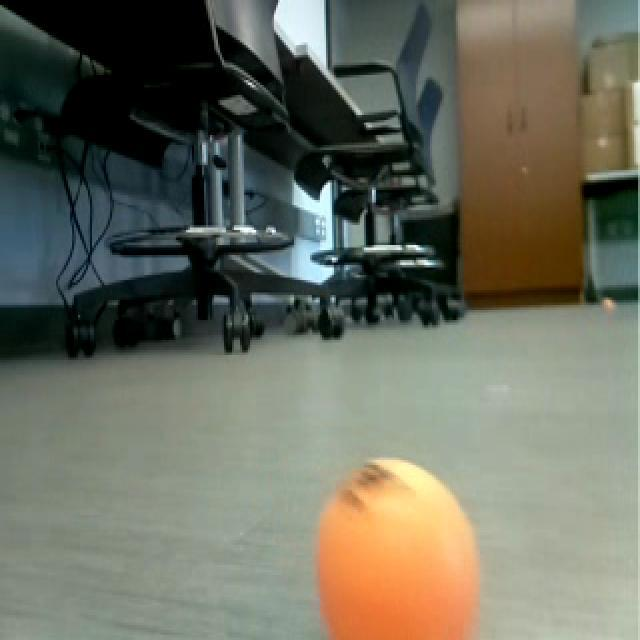oball: (314, 460, 492, 640)
